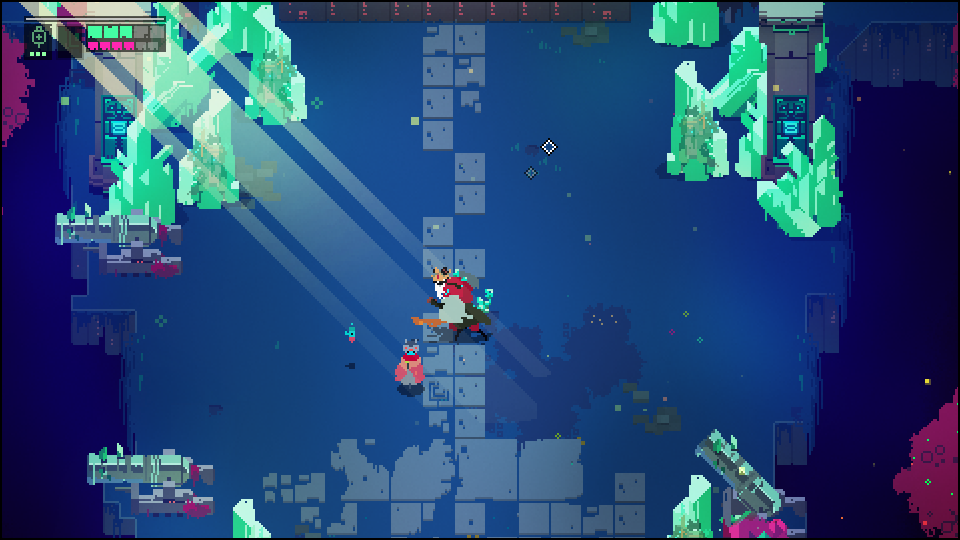hanged_man: (410, 262, 496, 339)
player: (395, 341, 426, 398)
